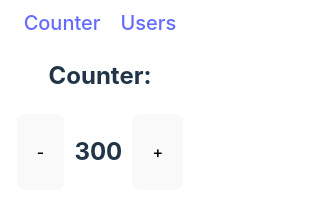
Scenario: Testing the counter app › should inc count when user click on - button
The width and height of the screenshot is (320, 207).
Expected: the heading "300" is shown, [74,134,122,170]
Click the button "-": (41,152) [17,114,65,190]
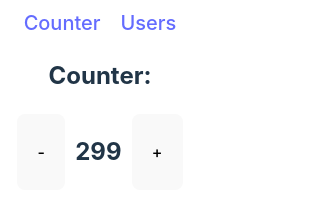
Expected: the heading "299" is shown, [75,134,122,170]
